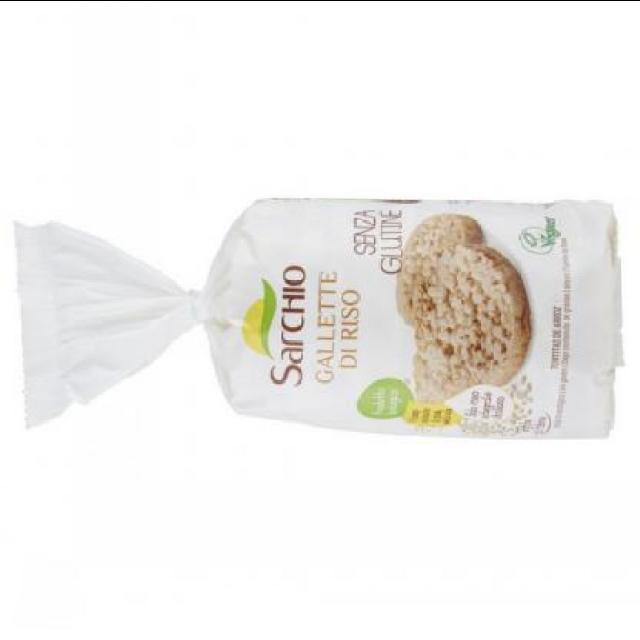Gallette di riso: (15, 189, 627, 443)
